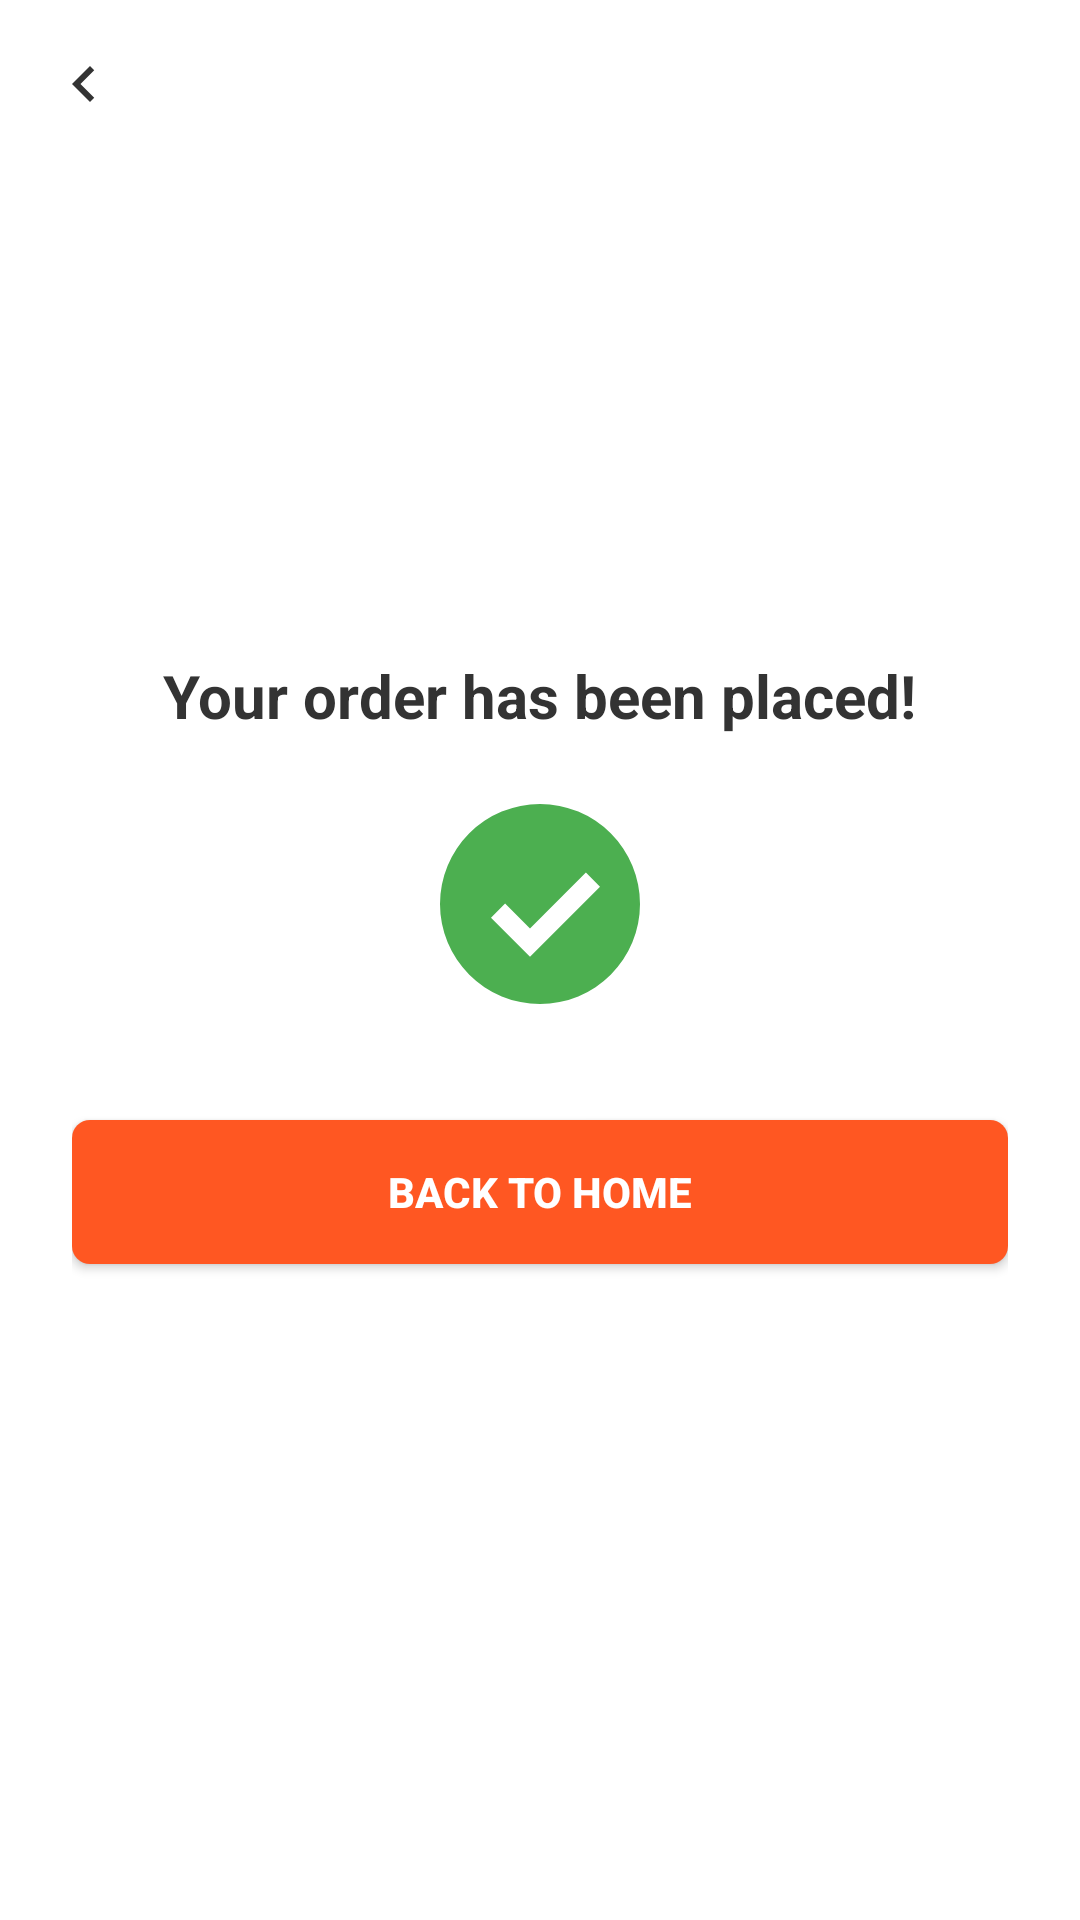

Screen size 1080×1920. Icon name, then its center in pixels as (x=x, y=y):
Back Button: (x=83, y=84)
Order Success: (x=540, y=904)
